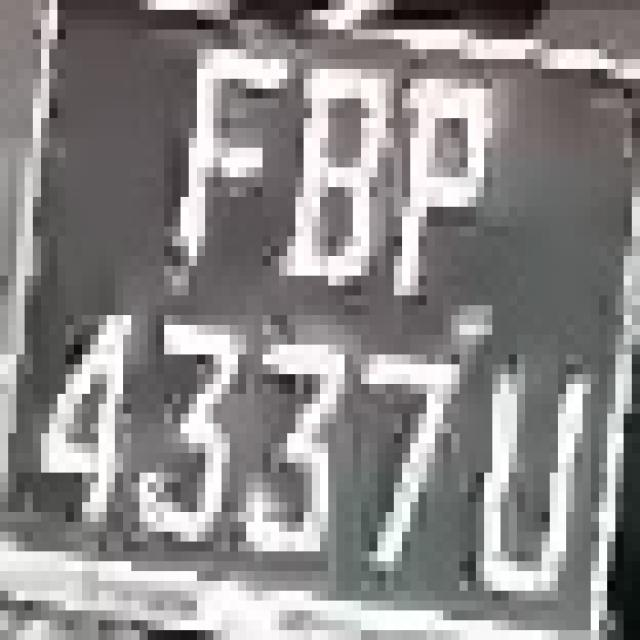3: (131, 295, 238, 571), (238, 315, 345, 591)
4: (17, 276, 132, 561)
7: (328, 305, 451, 591)
B: (279, 59, 394, 315)
F: (156, 19, 271, 276)
P: (377, 59, 509, 305)
U: (468, 354, 590, 610)
